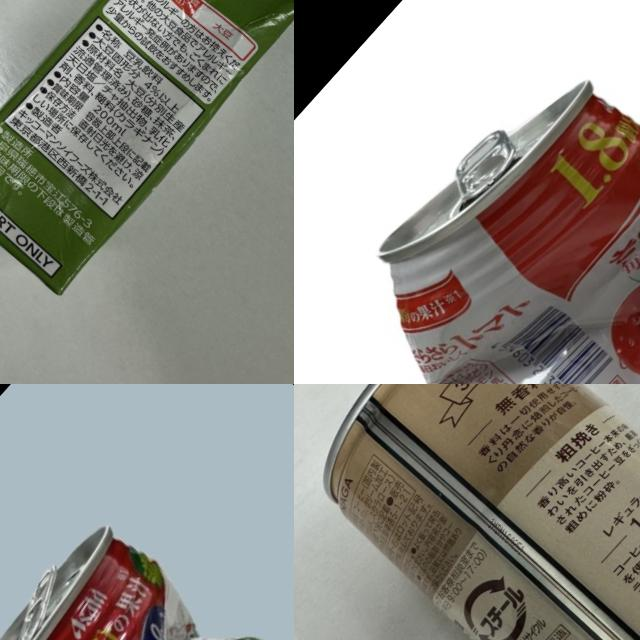Aluminium Foil: (0, 0, 294, 299)
Can: (322, 40, 640, 384), (294, 384, 640, 640), (0, 499, 294, 640)
